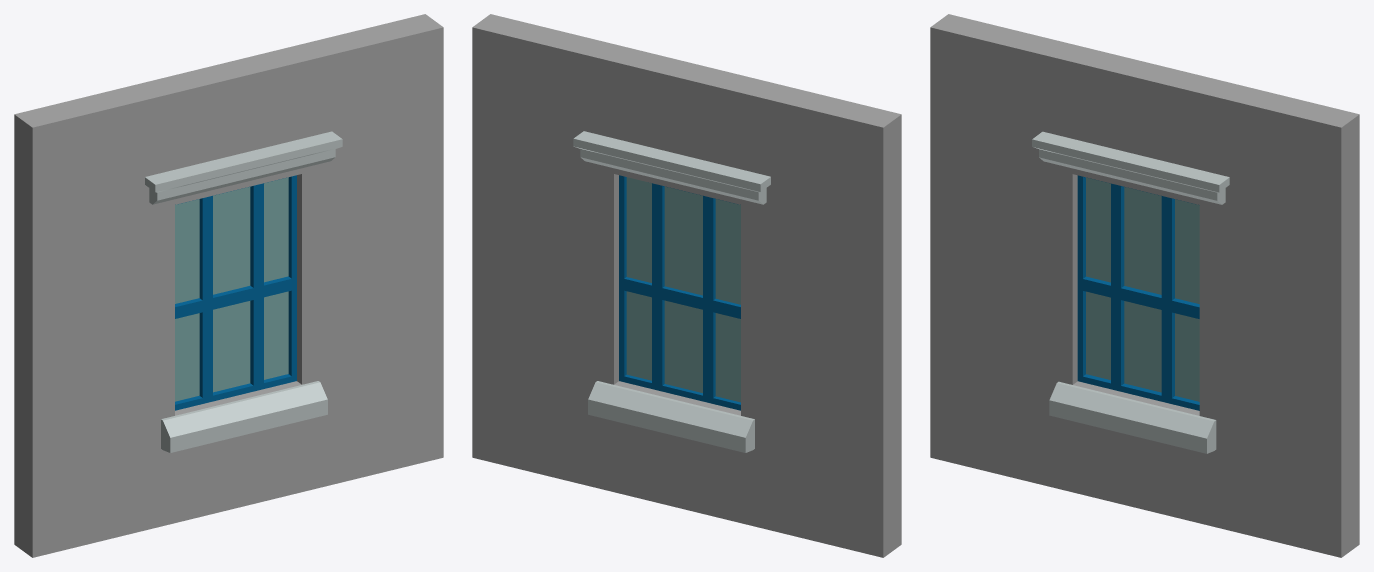
Rendered from NY_Street_Window_01.fbx.
The picture shows the model from 3 angles, left to right: view 1: azimuth 30°, elevation 25°; view 2: azimuth 150°, elevation 25°; view 3: azimuth 330°, elevation 25°; orthographic projection.
Parts seen in each view (by area): view 1: NY_Street_Window_01; view 2: NY_Street_Window_01; view 3: NY_Street_Window_01.
Part boxes in pixels (x1,y1,x2,y2): NY_Street_Window_01: [14, 14, 443, 557]; NY_Street_Window_01: [472, 14, 901, 557]; NY_Street_Window_01: [930, 14, 1359, 557].
Size of the model in its own units: 400 by 400 by 66.17.
